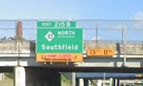1: (105, 48, 109, 56), (88, 48, 92, 55), (101, 49, 105, 55)
3: (91, 48, 96, 56)
overheadsign: (87, 46, 114, 58)
